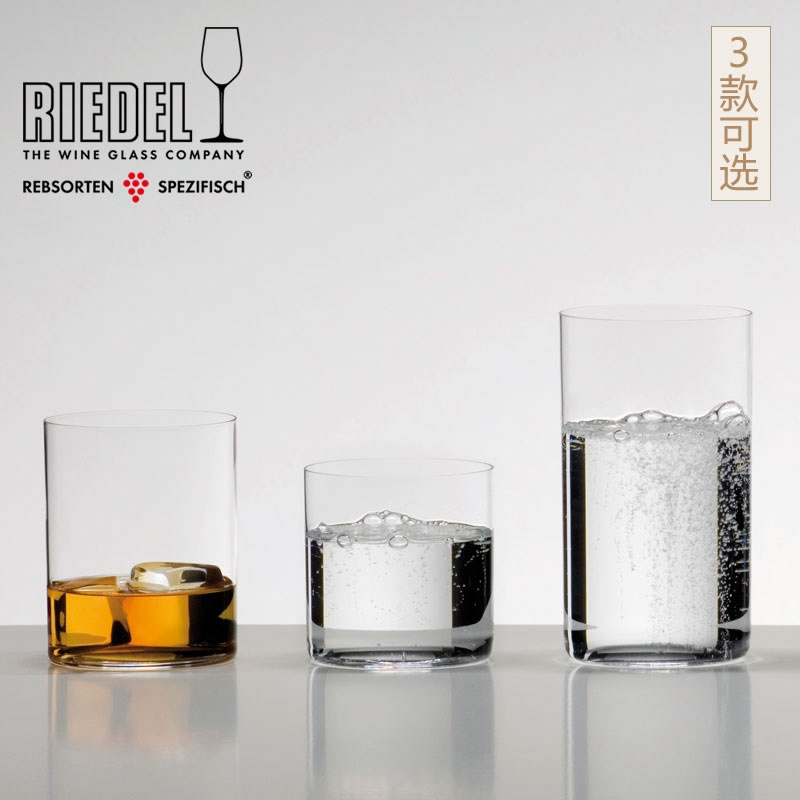whiskey: (39, 409, 247, 674)
